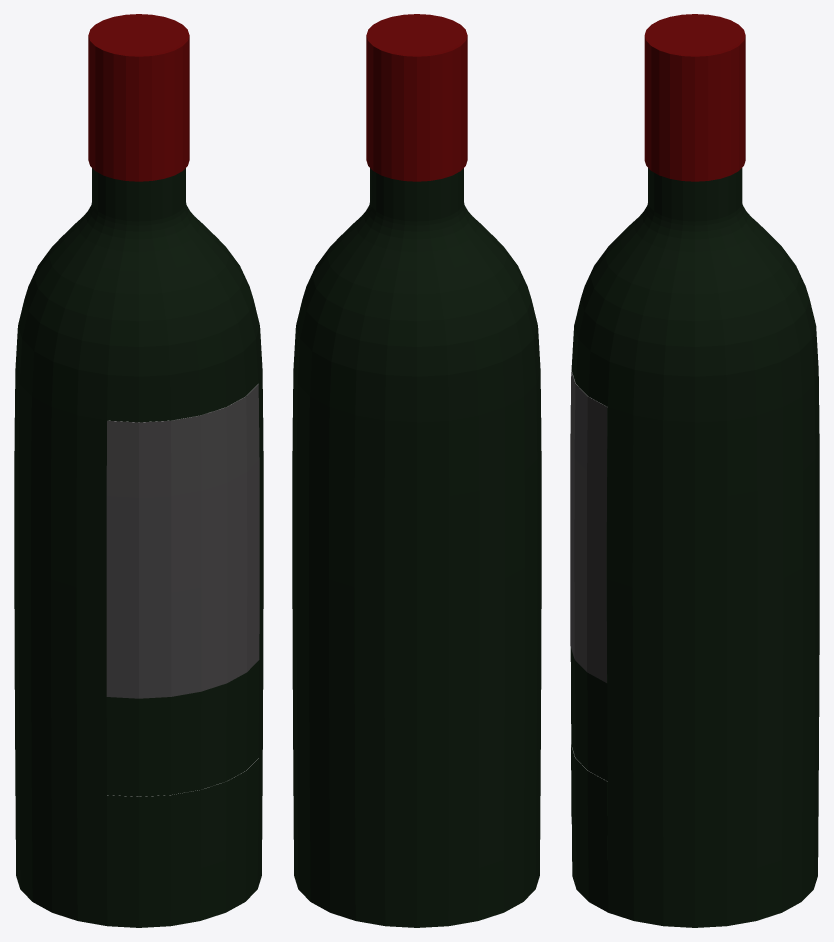
The picture shows the model from 3 angles, left to right: view 1: azimuth 30°, elevation 25°; view 2: azimuth 150°, elevation 25°; view 3: azimuth 270°, elevation 25°; orthographic projection.
Bounding box in the file's own units: 0.0671 × 0.25 × 0.0672.
Materials: 1 (1 with a texture image).
